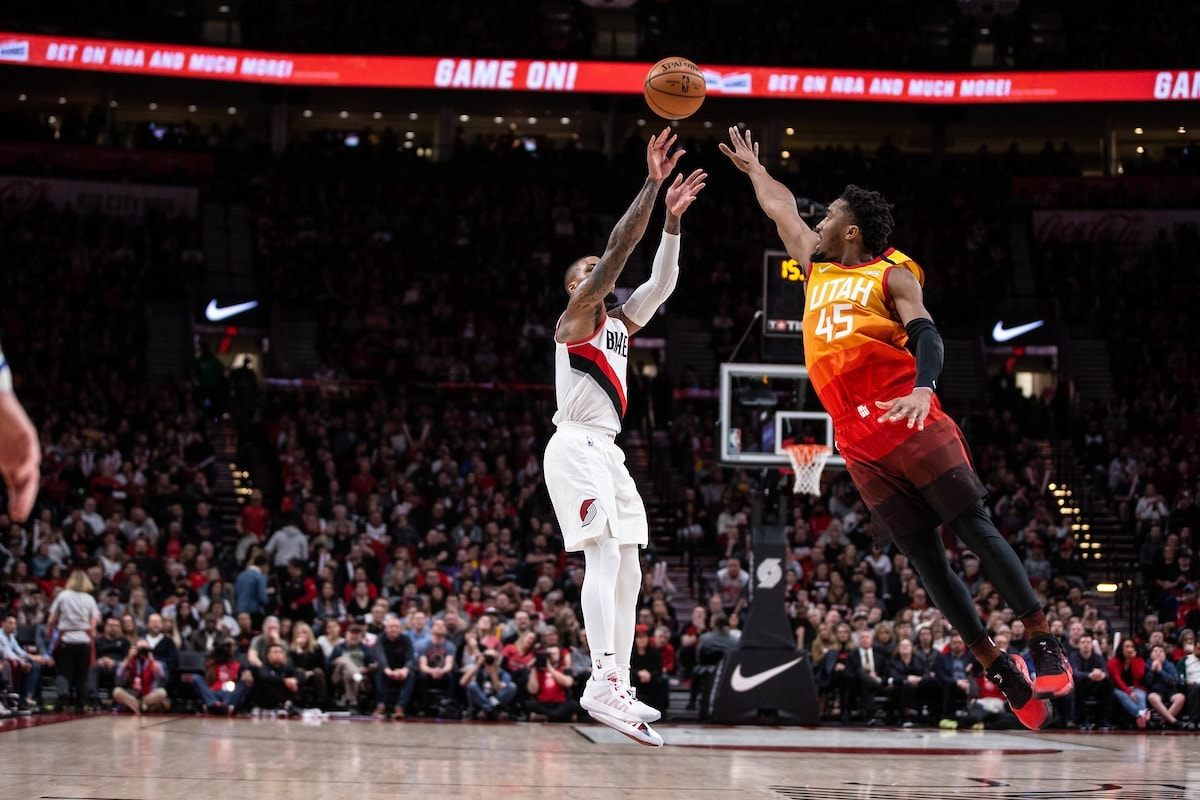Jumpshot: (605, 57, 708, 297)
